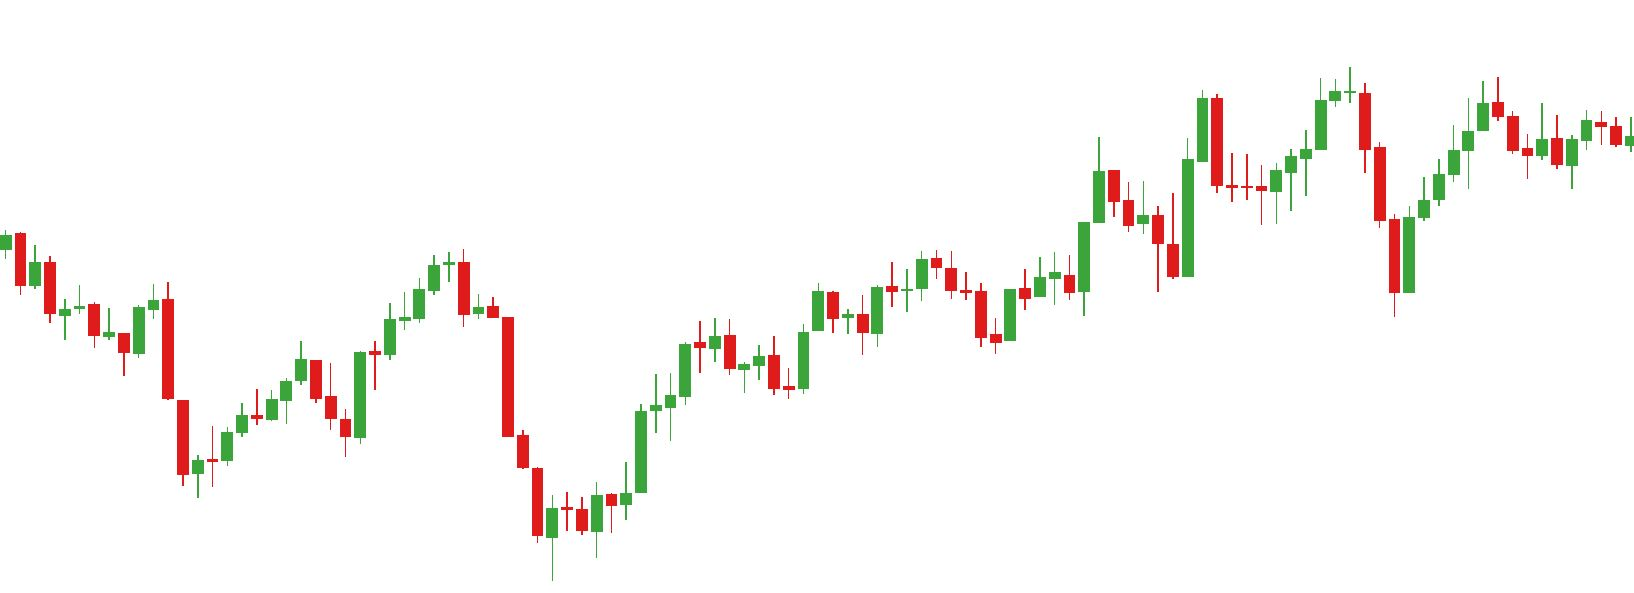buy: (192, 356, 608, 586), (1164, 131, 1419, 318)
